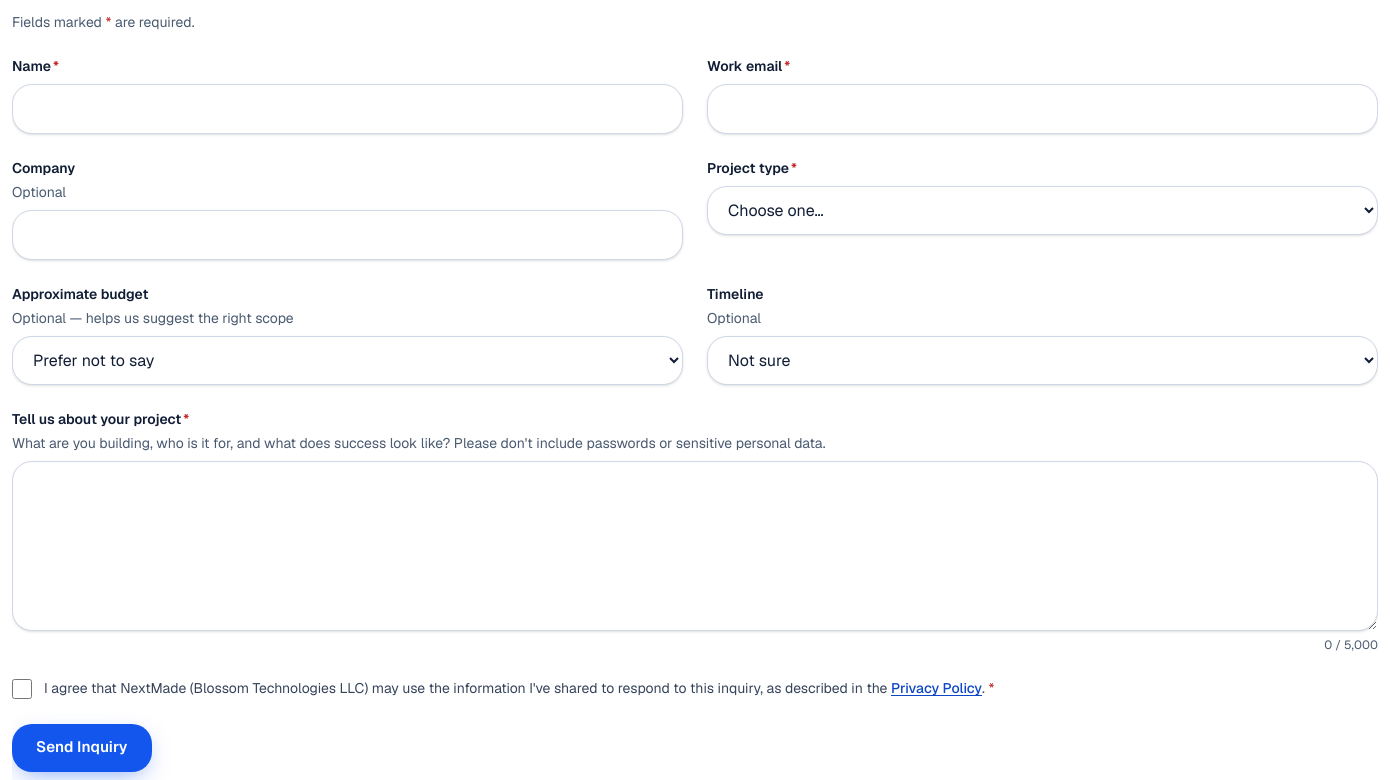
Scenario: ProjectInquiryForm › confirms only after the server confirms delivery, and posts to the inquiry endpoint
Type "Jordan Rivera" into the field labelled "Name*".
click(348, 109); type("Jordan Rivera")  # box [12, 84, 683, 134]
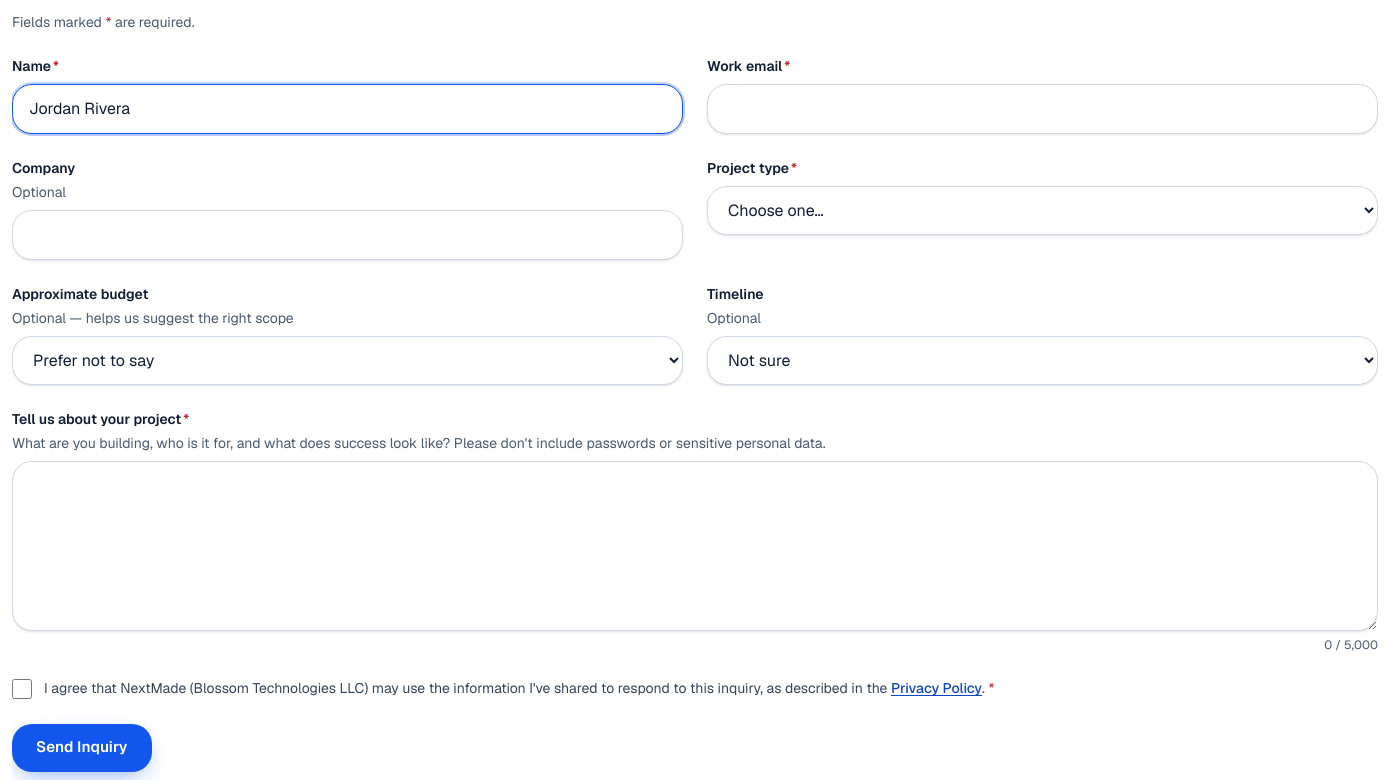
Type "jordan@example.com" into the field labelled "Work email*".
click(1042, 109); type("jordan@example.com")  # box [707, 84, 1378, 134]
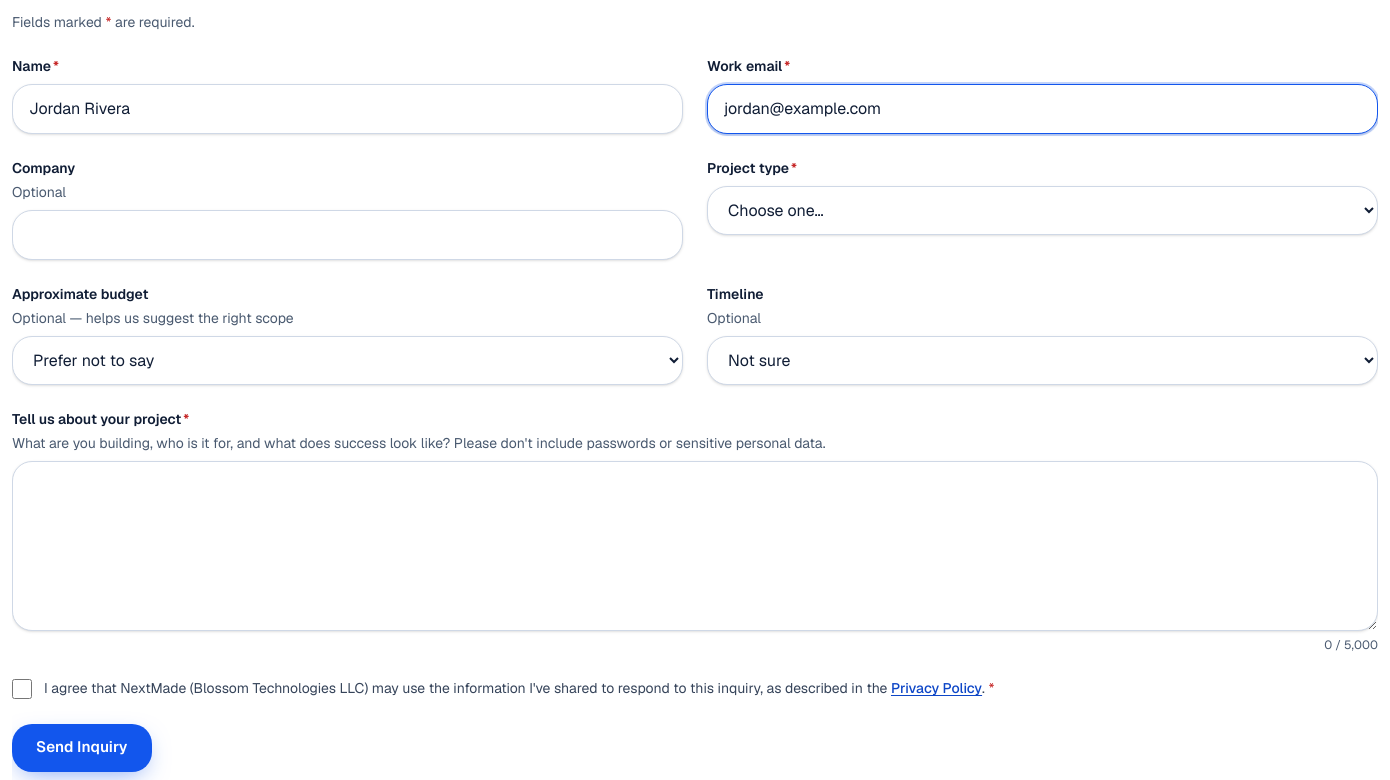
Select "New product / MVP" in the dropdown labelled "Project type*" at (1042, 210), box [707, 186, 1378, 235]
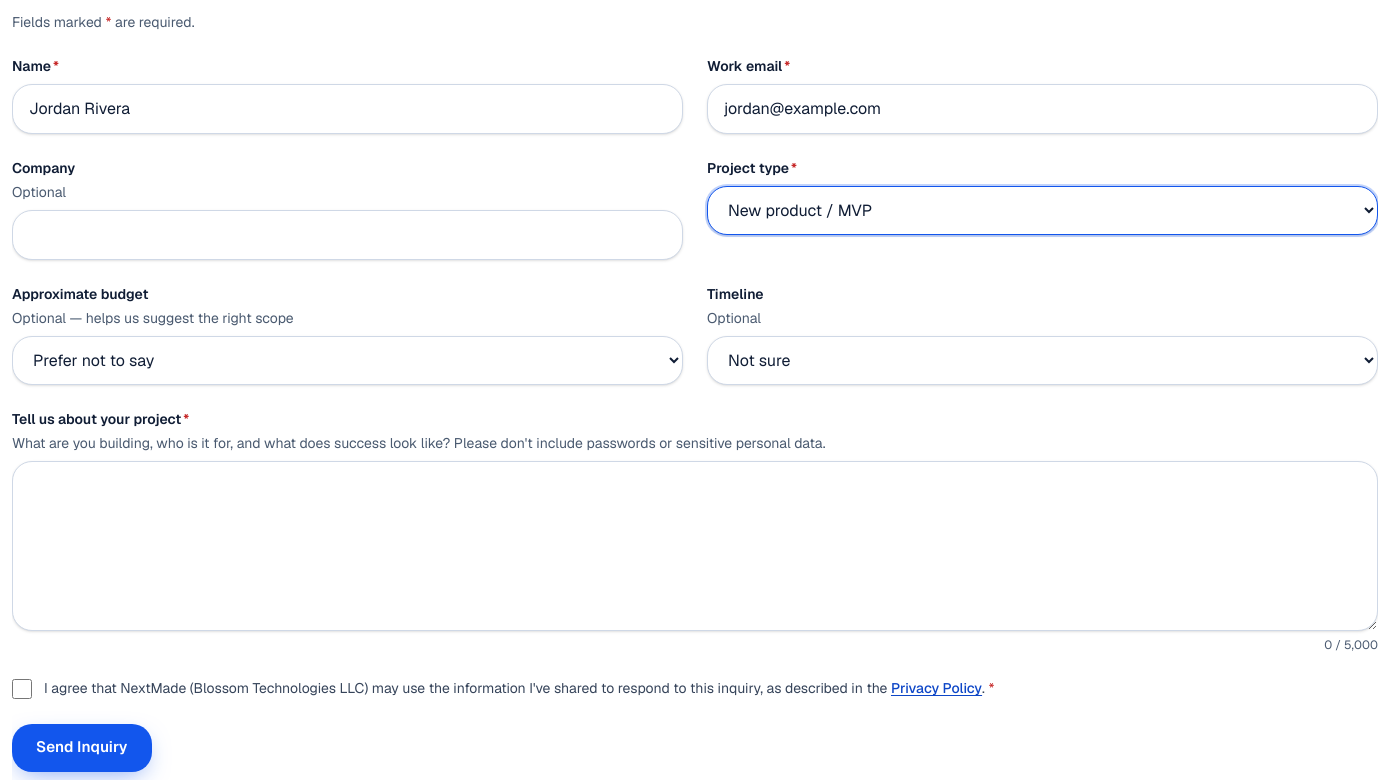
Type "A booking tool for independent studios with payments." into the text box labelled "Tell us about your project*".
click(695, 546); type("A booking tool for independent studios with payments.")  # box [12, 461, 1378, 631]
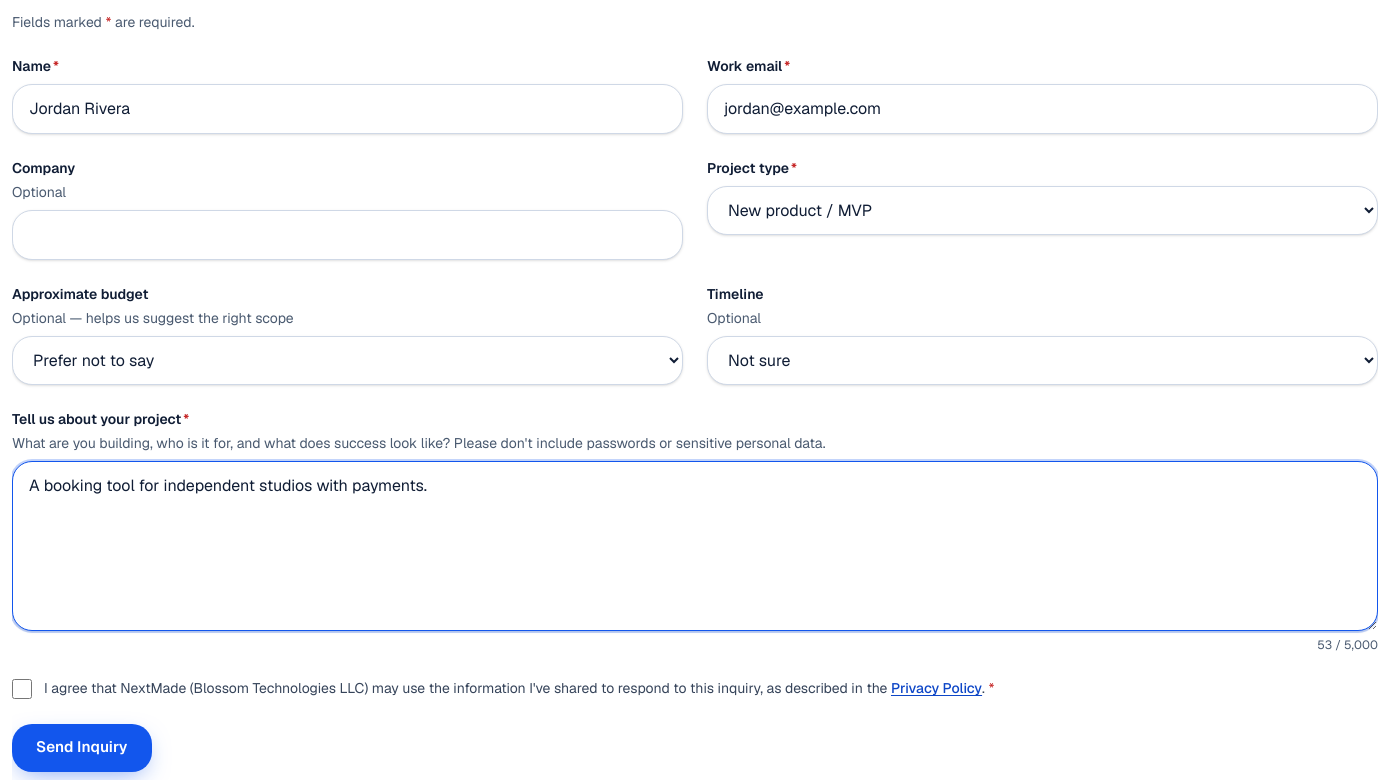
Click the checkbox.
click(22, 689)  # box [12, 679, 32, 699]
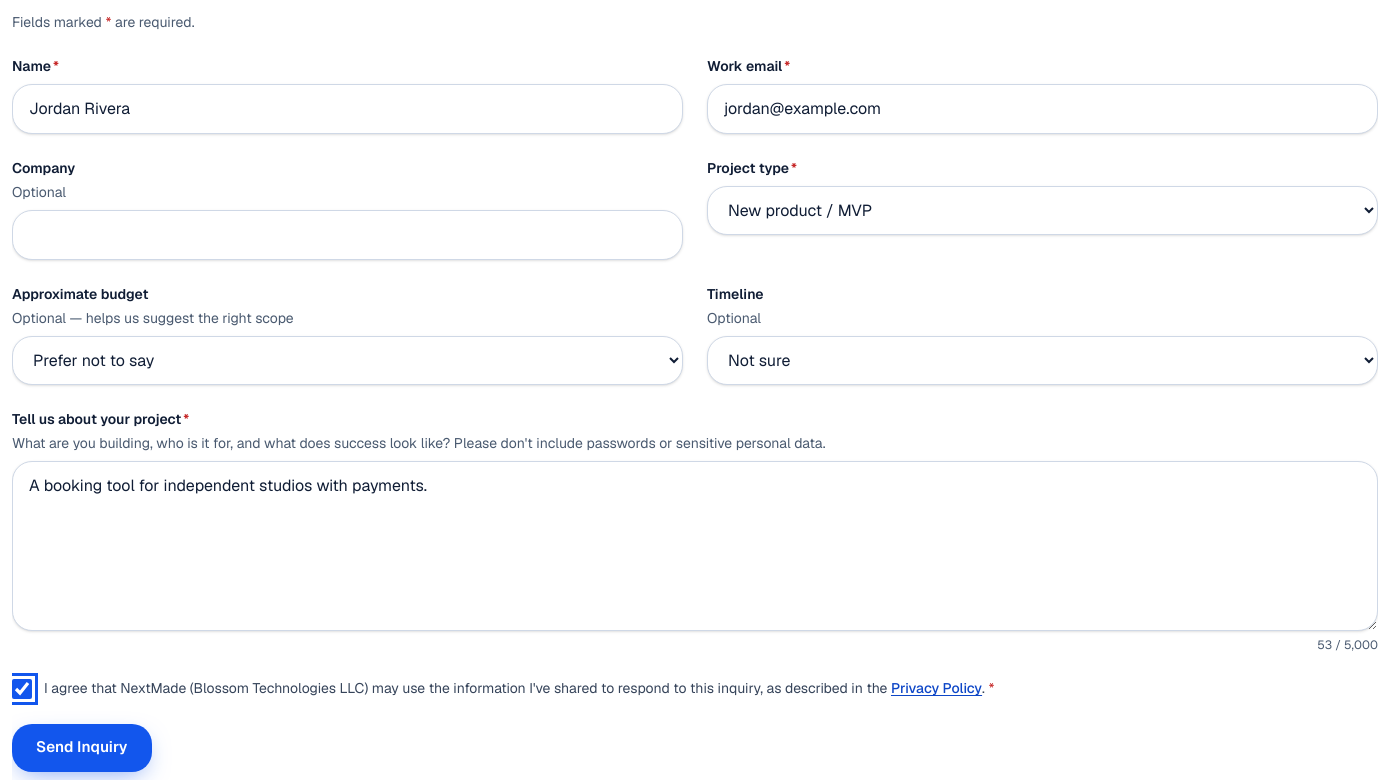
Click the button "Send Inquiry".
click(82, 748)  # box [12, 724, 152, 772]
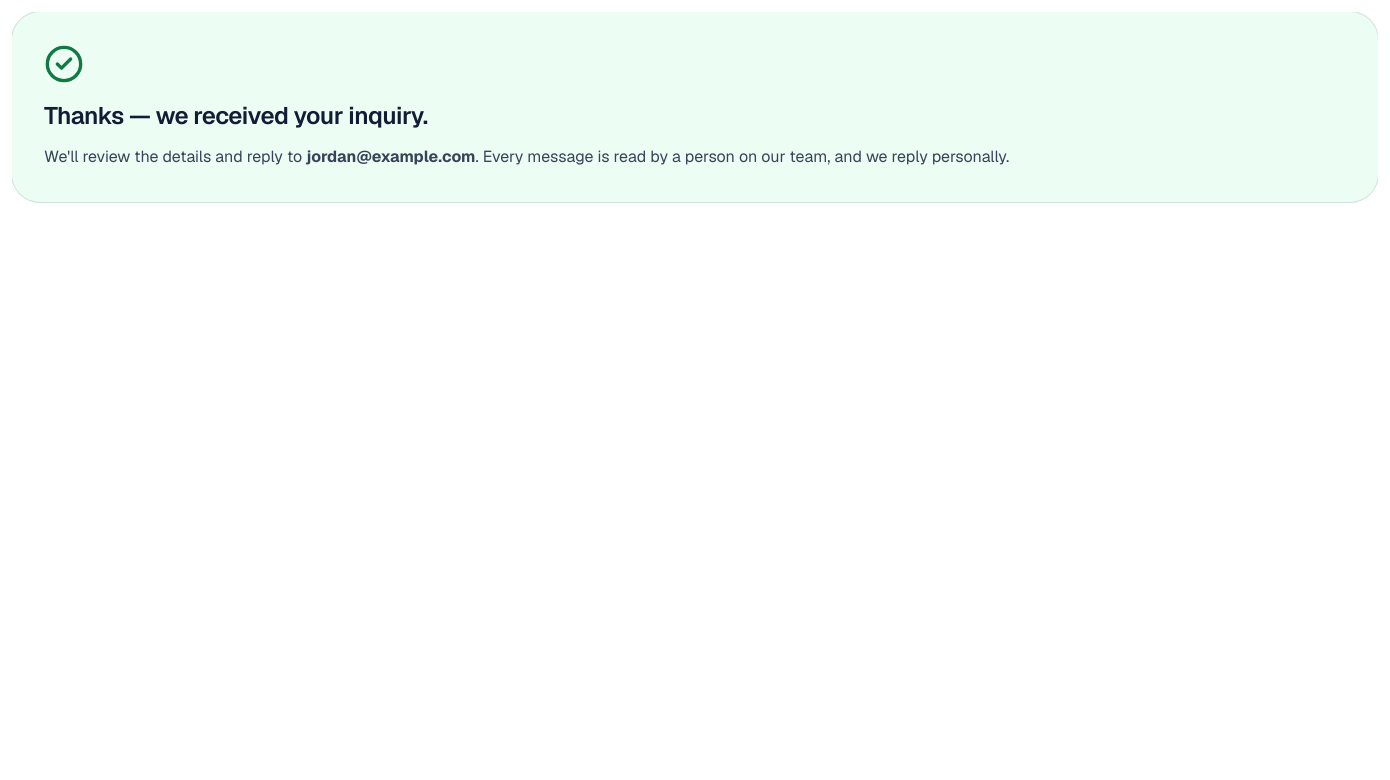
Expected: the heading "Thanks — we received your inquiry." is shown, [44, 100, 428, 131]
Expected: the text "jordan@example.com" is shown, [306, 146, 476, 167]
